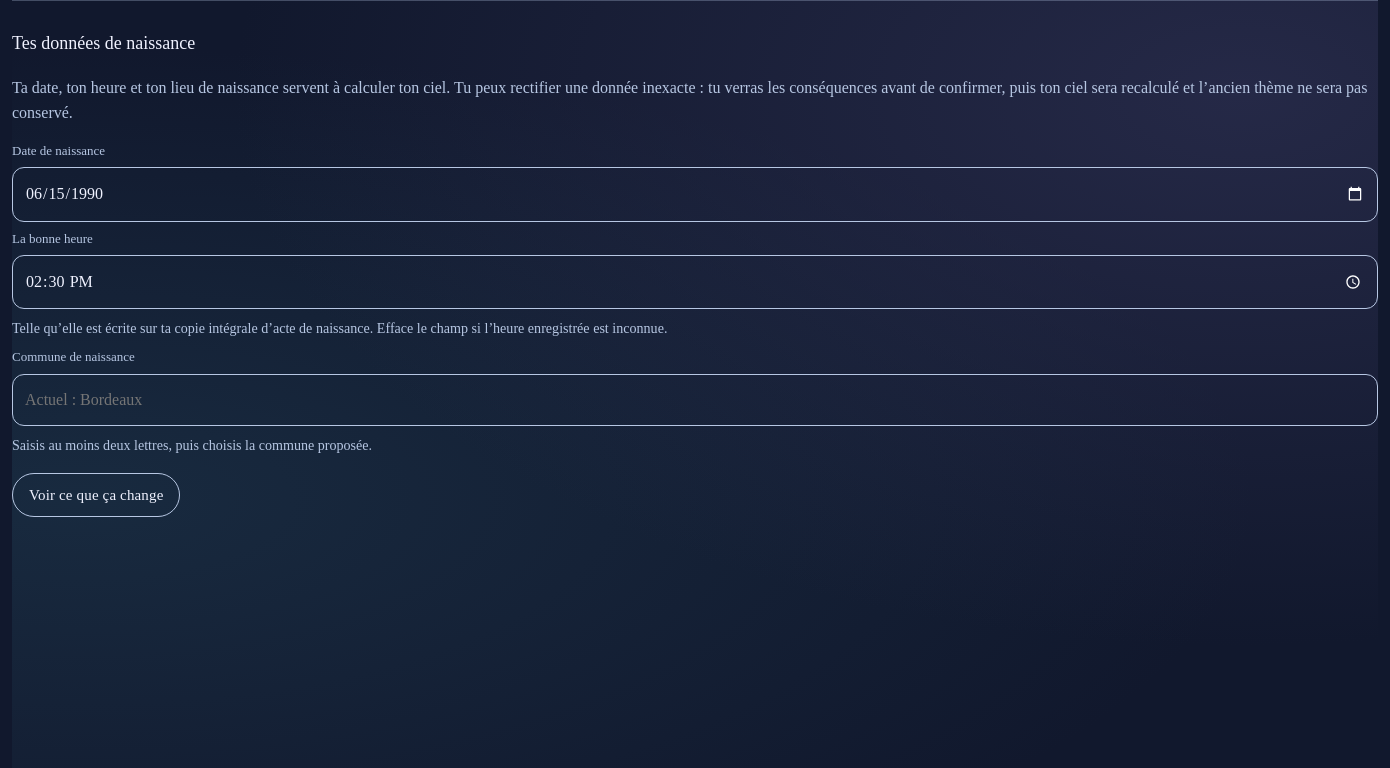
Test: [6.5b] On ne peut pas écrire sans avoir vu › [LE CŒUR] l'aperçu s'affiche AVANT toute écriture, et rien n'a été envoyé
This screenshot has width=1390, height=768.
Replace the text in the time field labelled "La bonne heure" with "04:30". click: (695, 282)
box: [12, 255, 1378, 309]
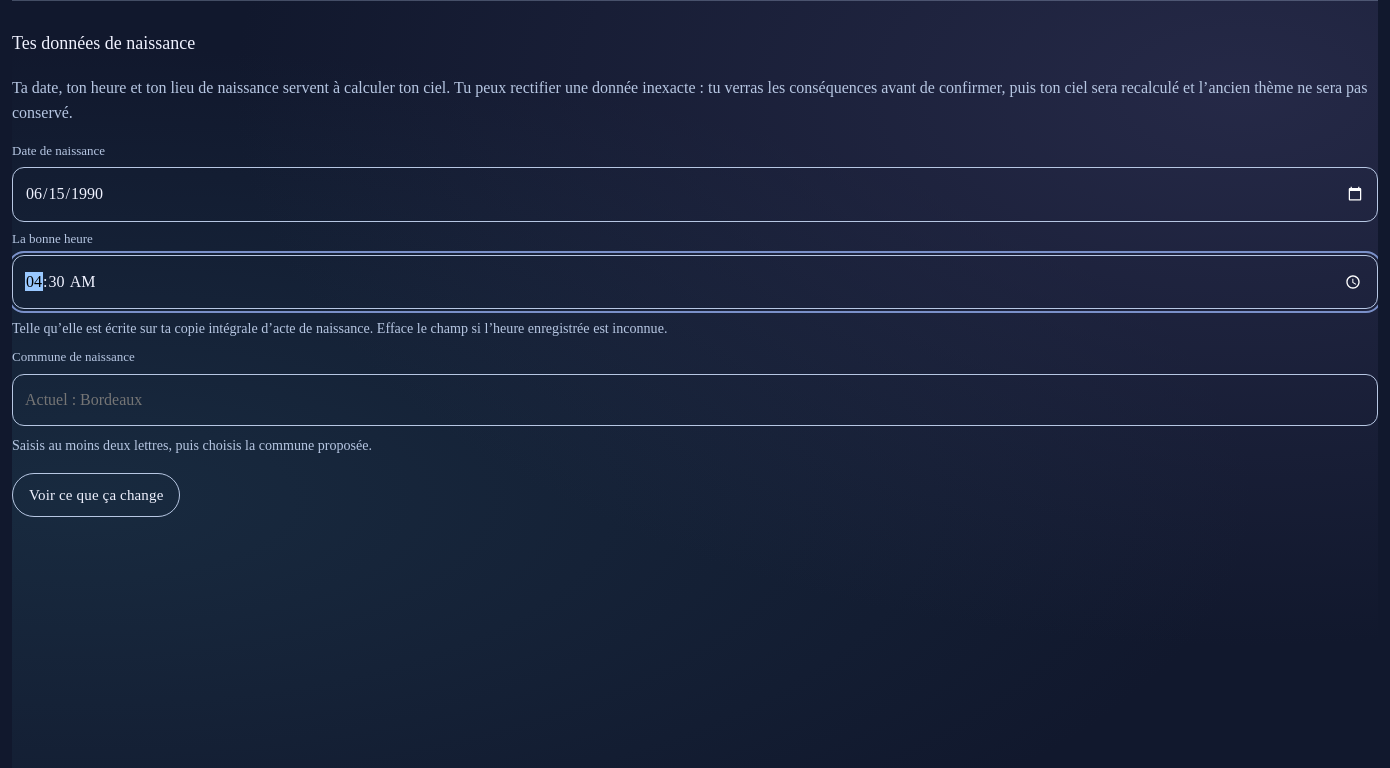
Click the button "Voir ce que ça change". click: (96, 495)
box: [12, 473, 180, 517]
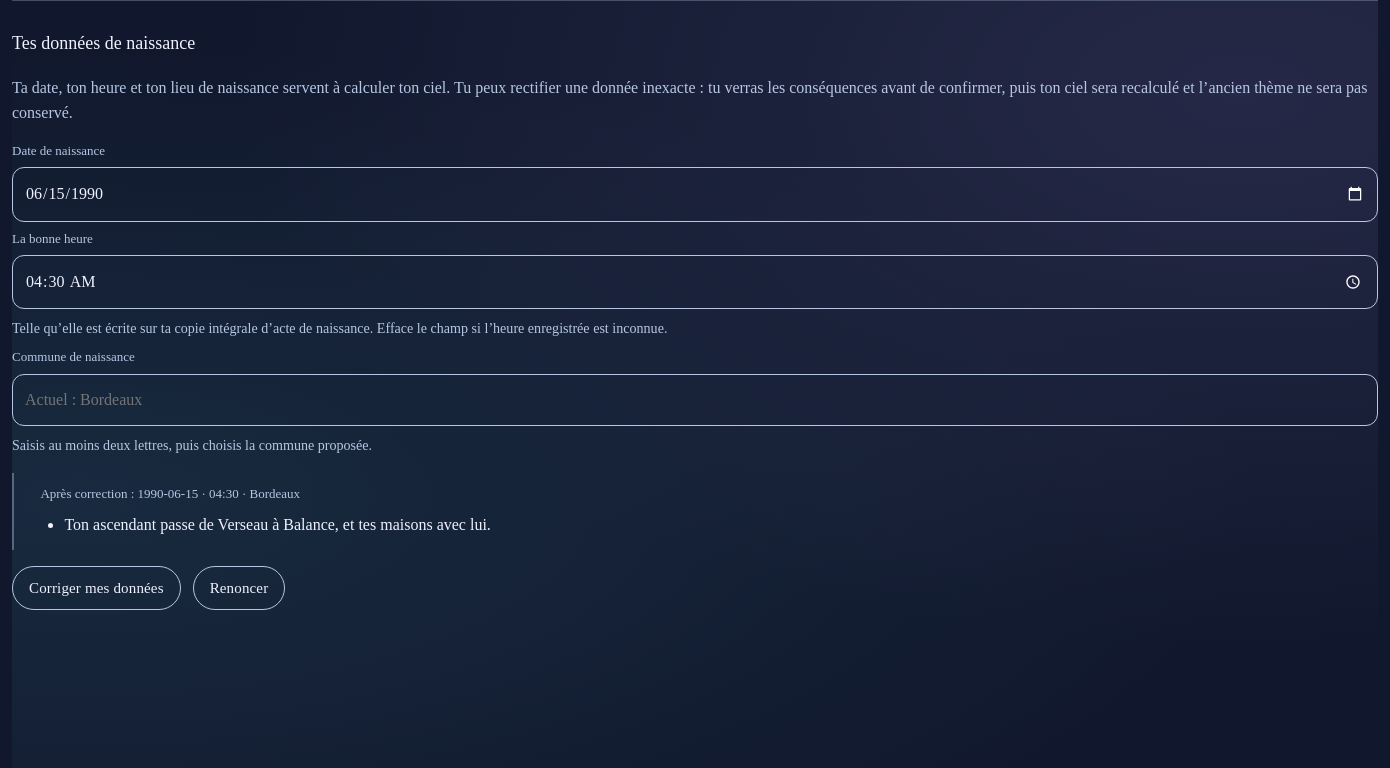
Result: the list item "Ton ascendant passe de Verseau à Balance, et tes maisons avec lui." is shown at [64, 516, 491, 533]
